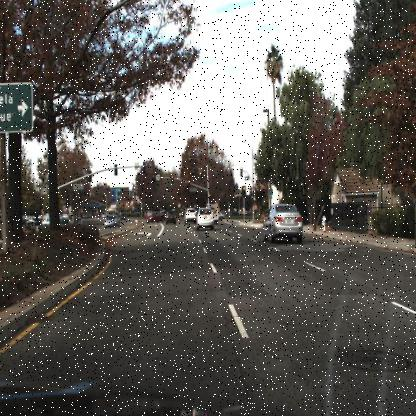car: (263, 200, 304, 247), (194, 204, 216, 234), (182, 204, 198, 228), (103, 214, 121, 230), (164, 210, 177, 226)
trafficLight: (207, 186, 212, 200)
trafficLight-Red: (240, 183, 246, 199), (170, 170, 175, 186), (187, 182, 192, 194)
trafficLight-RedLeft: (152, 170, 156, 184)
